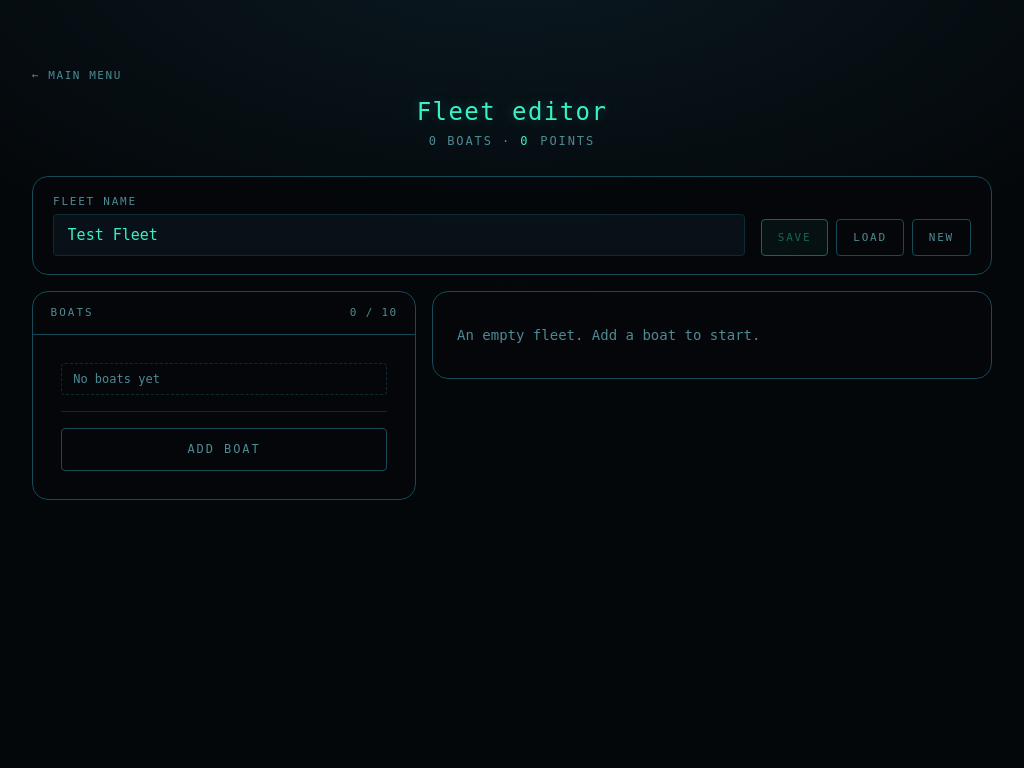
it: in the fleet editor › closes the load dialog and stays in the editor
Click the button "LOAD" at (870, 238), box [836,219,904,256]
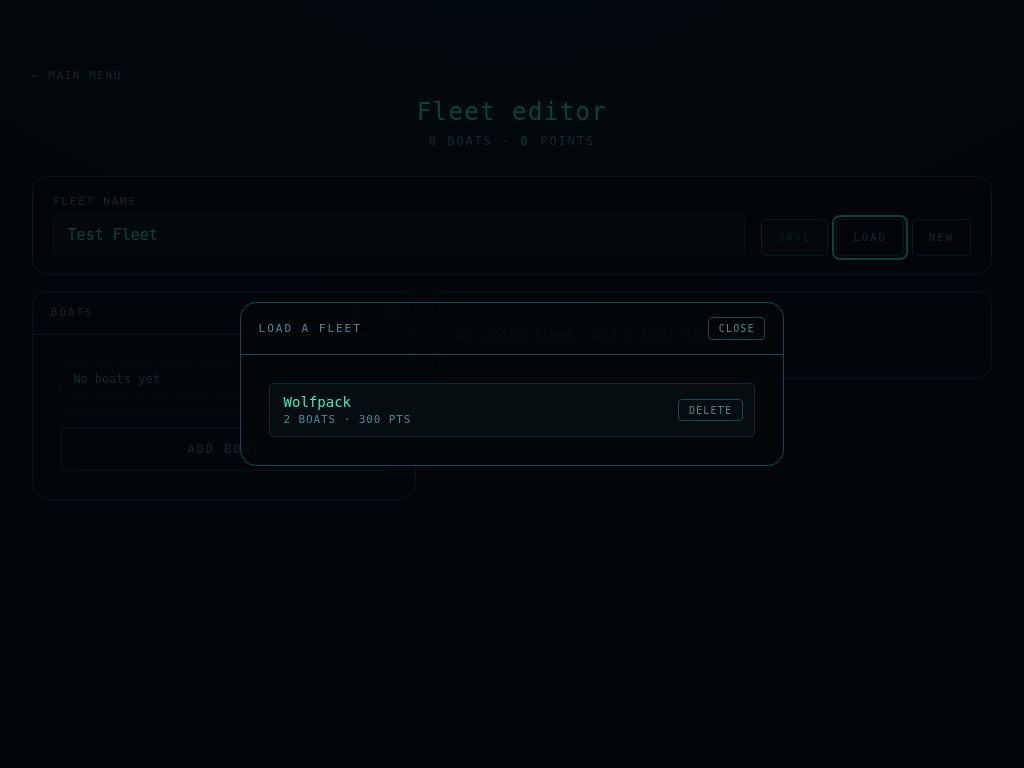
expect the dialog "Load a fleet" is shown: met
Press Escape
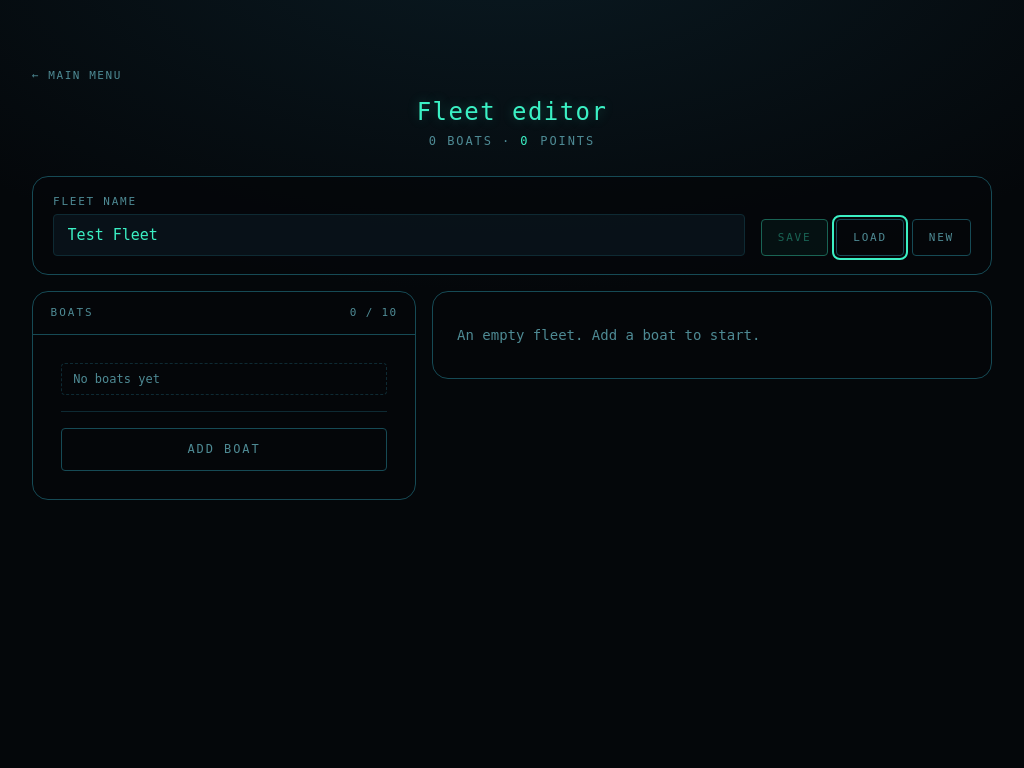
expect the heading "Load a fleet" is gone: met
